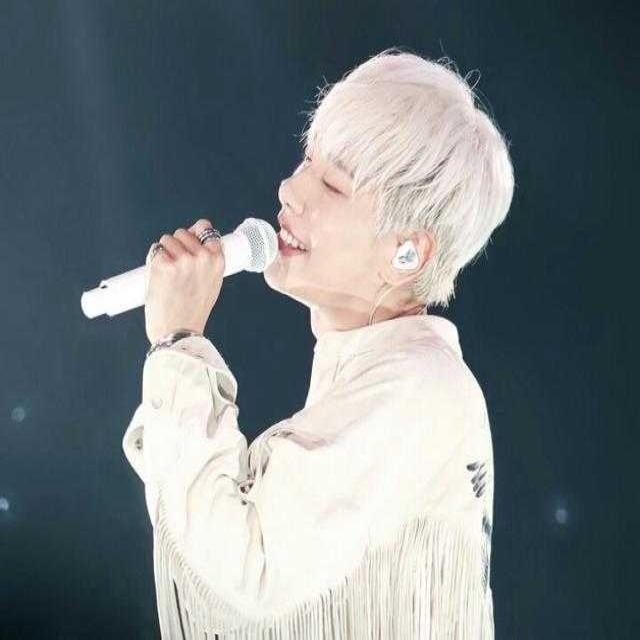microphone: (84, 216, 279, 318)
